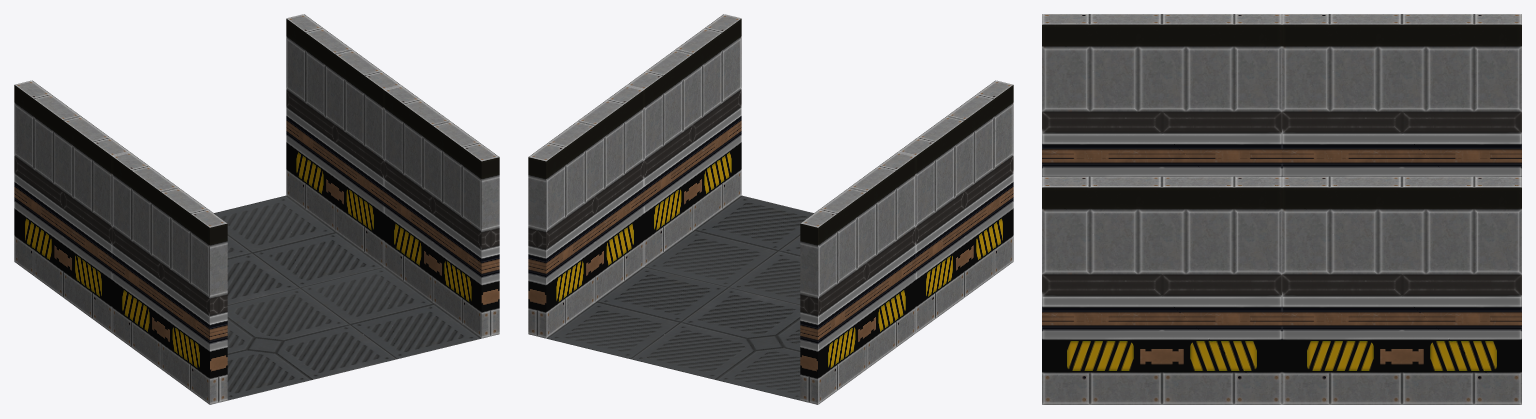
The model's file is labsMapPath.fbx.
The picture shows the model from 3 angles, left to right: view 1: azimuth 30°, elevation 25°; view 2: azimuth 150°, elevation 25°; view 3: azimuth 270°, elevation 25°; orthographic projection. The views are drawn at different scales.
Visible parts, largest first — view 1: wall1.001, wall31.001, Floor1.001; view 2: wall1.001, wall31.001, Floor1.001; view 3: wall31.001, wall1.001.
Boxes of the visible parts, x1,y1,x2,y2 form: wall1.001: (14,80,227,404); wall31.001: (286,14,499,338); Floor1.001: (214,195,481,400); wall1.001: (800,80,1013,404); wall31.001: (528,14,741,338); Floor1.001: (546,195,813,400); wall31.001: (1042,176,1521,404); wall1.001: (1042,14,1521,176).
Bounding box in the file's own units: 4.88 × 2.85 × 5.7.
